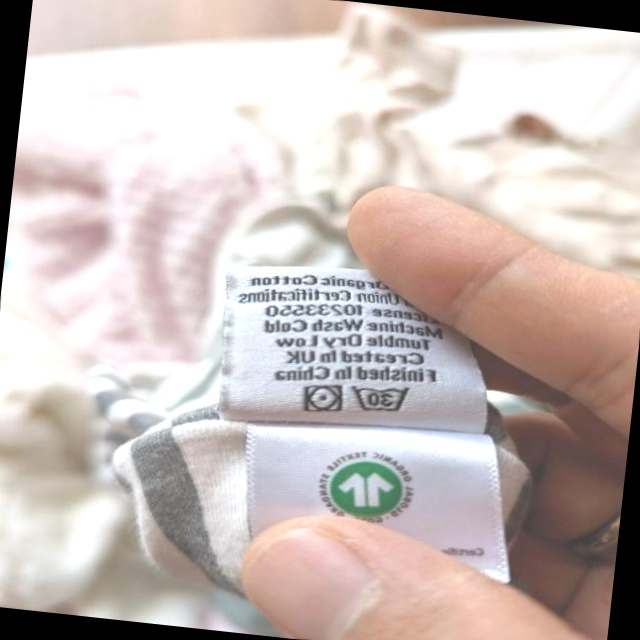30C: (346, 377, 416, 420)
tumble_dry_low: (298, 378, 347, 420)
